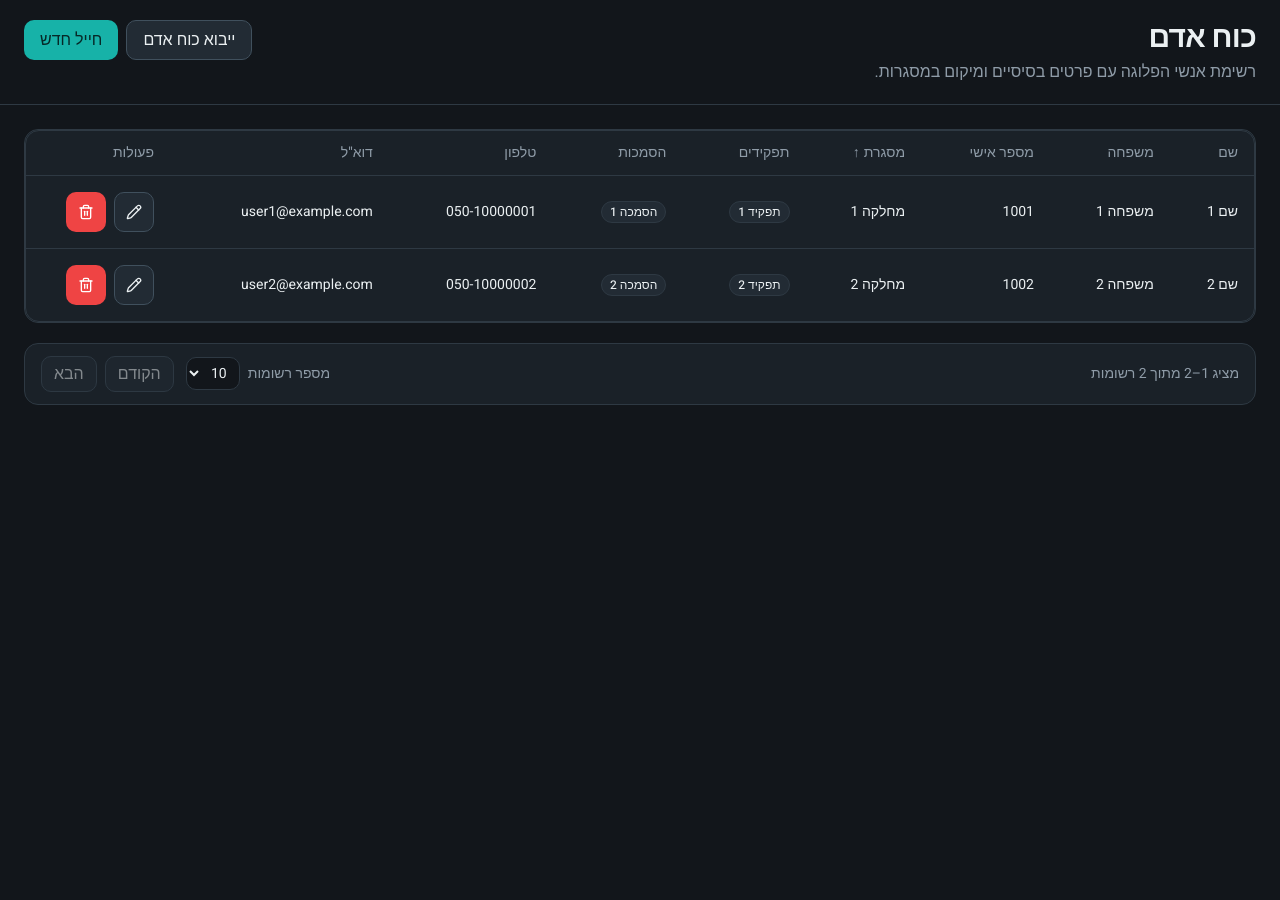
Test: UsersPage › shows a user-facing deactivation error when the request fails
Click the button named "הפסקת פעילות של ": (86, 212) [66,192,106,232]
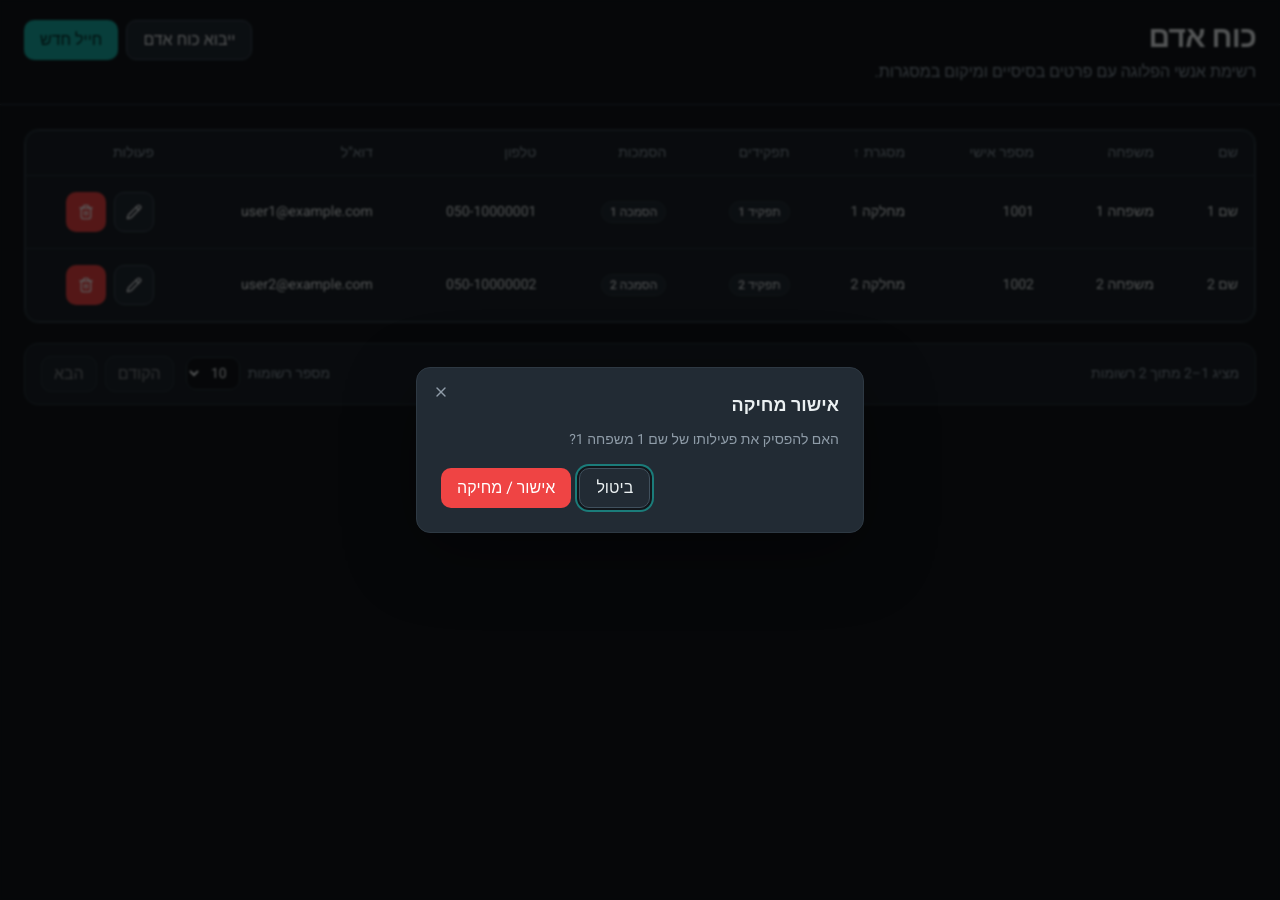
Click the button "אישור / מחיקה": (506, 488) [441,468,571,508]
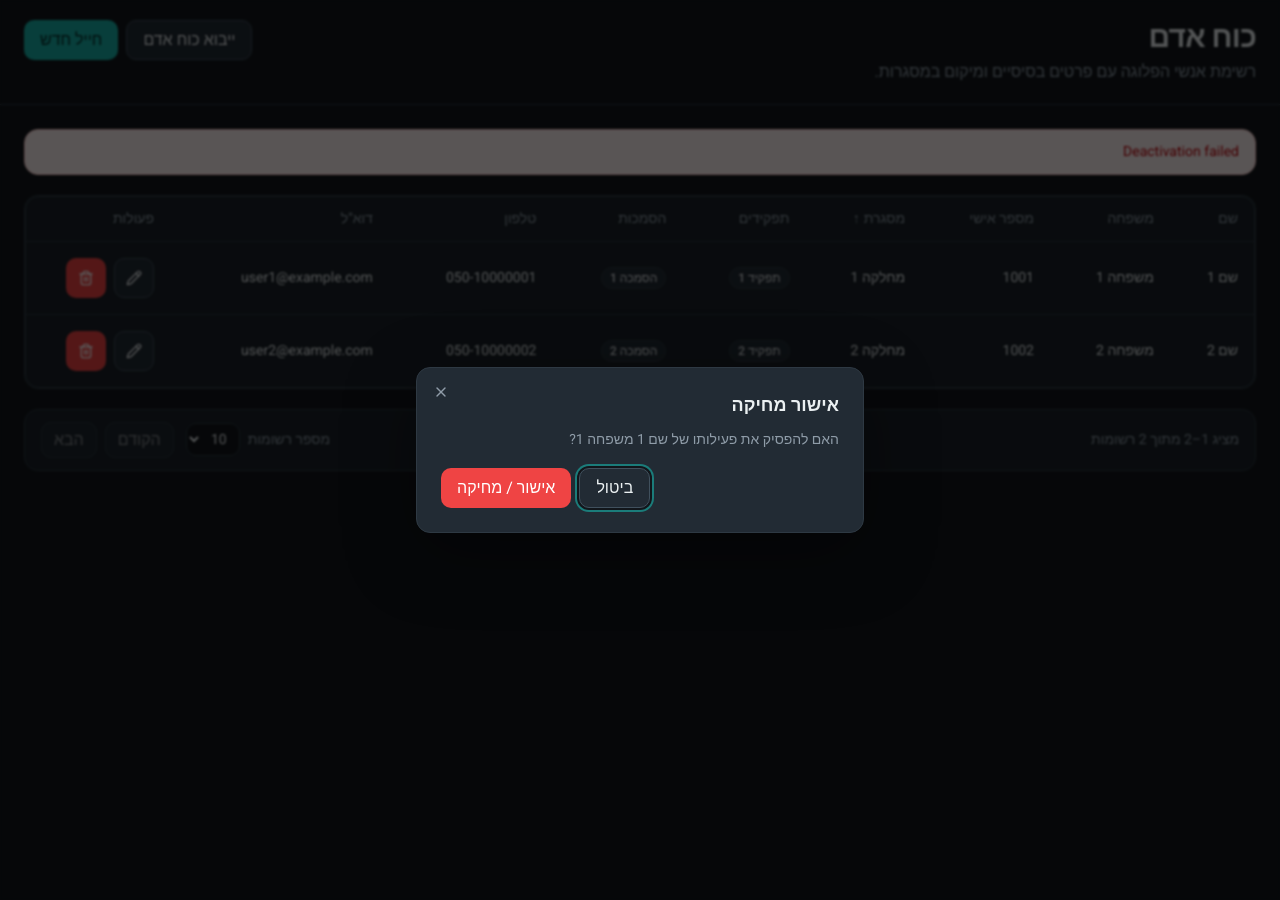
Now the text "Deactivation failed" is shown, box [24,129,1256,175]
